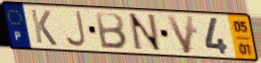4: (204, 16, 232, 57)
B: (94, 11, 129, 51)
J: (63, 9, 88, 48)
K: (29, 8, 59, 48)
N: (127, 12, 165, 53)
V: (164, 14, 196, 56)
